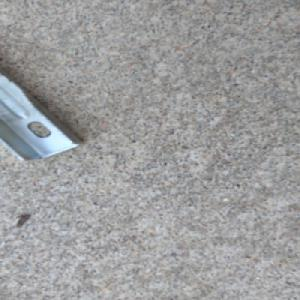ClampPart: (0, 65, 87, 163)
